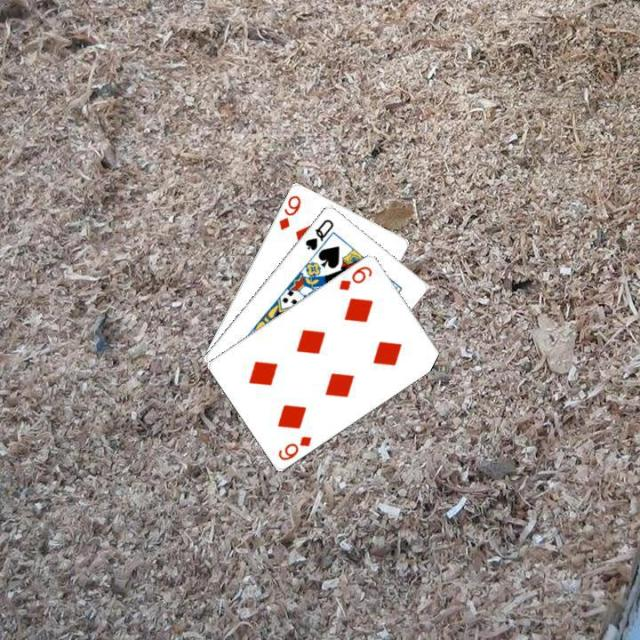6D: (274, 431, 314, 462), (335, 262, 374, 292)
9D: (275, 191, 303, 231)
QS: (301, 215, 335, 252)
